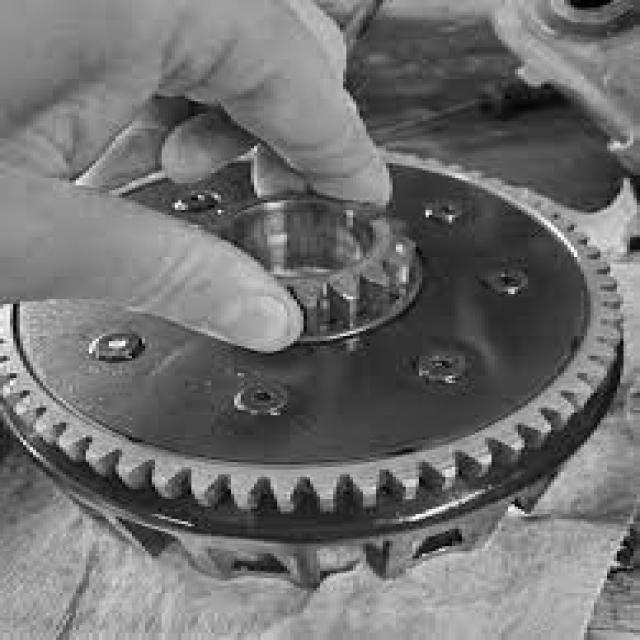No Fault: (17, 381, 593, 527), (446, 149, 634, 524)
